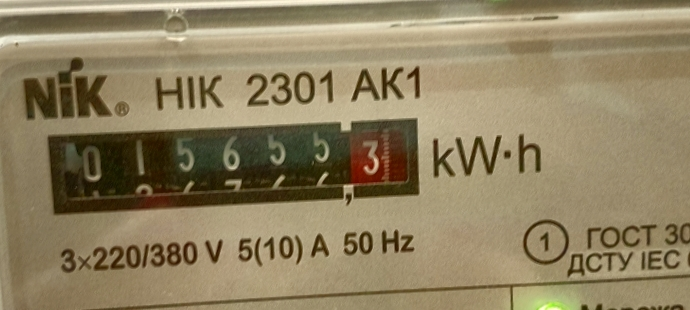0: (78, 142, 105, 184)
1: (130, 139, 151, 178)
3: (360, 139, 381, 176)
5: (172, 137, 198, 174), (265, 134, 289, 167), (312, 131, 332, 164)
6: (219, 135, 244, 173)
screen: (33, 99, 436, 232)
